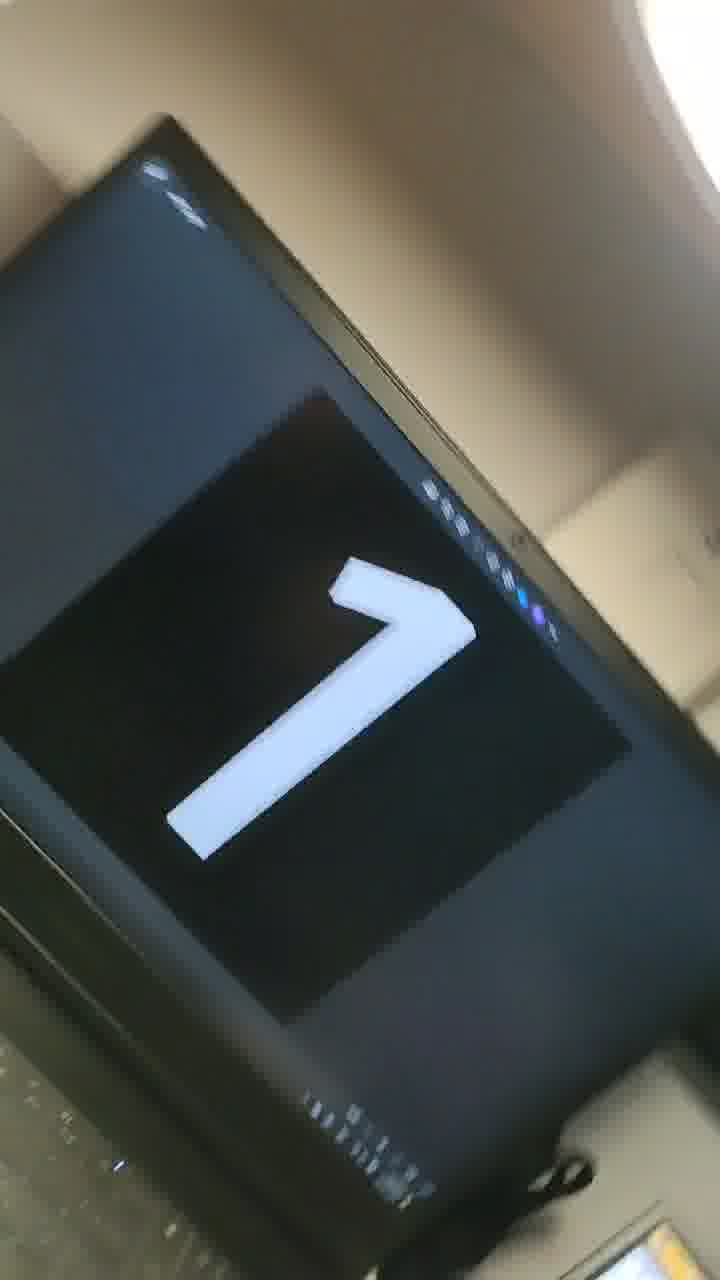one: (120, 496, 529, 936)
